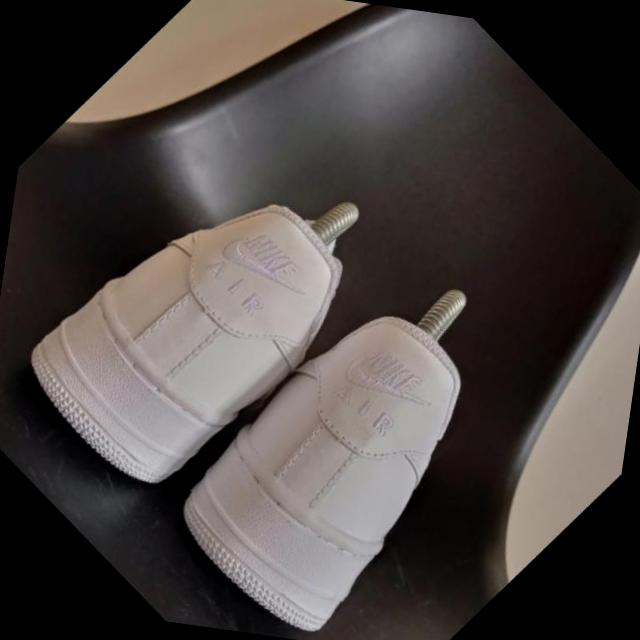nike_fake_airforce: (0, 118, 402, 547), (136, 254, 543, 640)
